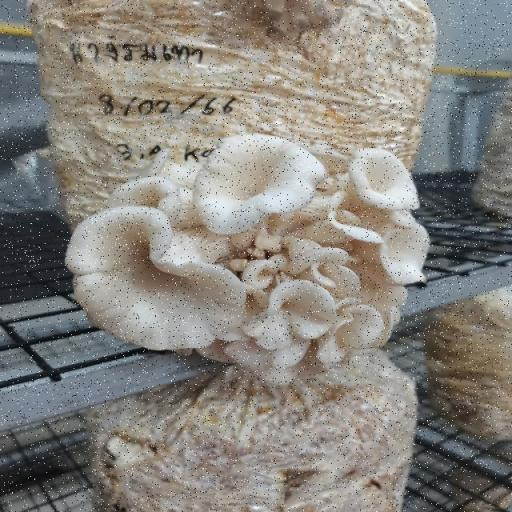White Oyster Mushroom: (62, 126, 452, 391)
